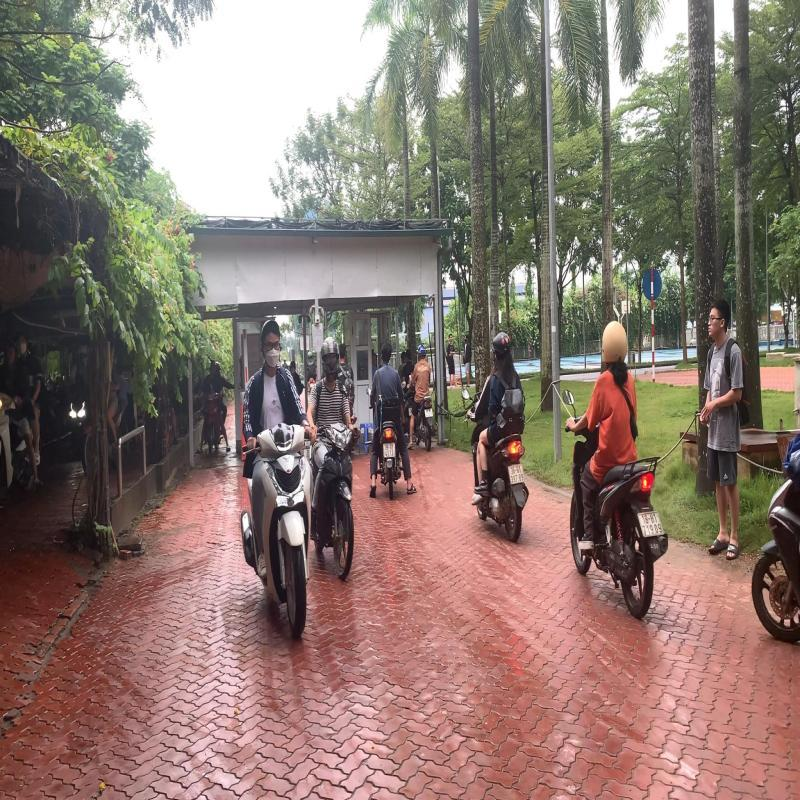nohelmet: (380, 340, 394, 366)
